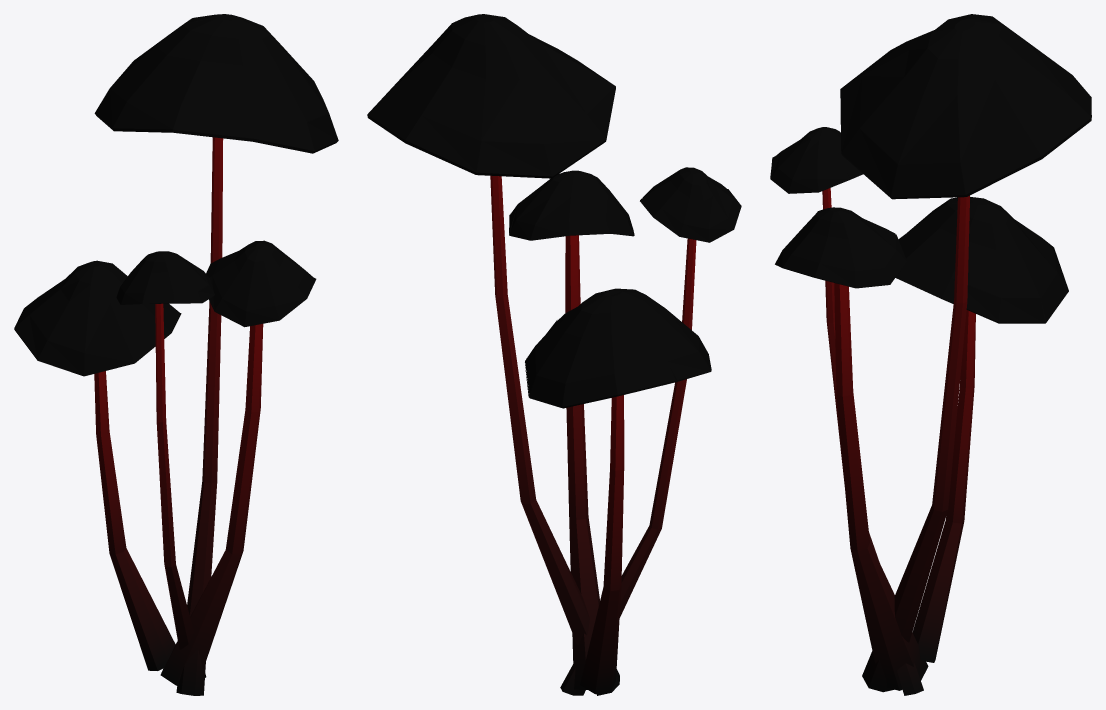
Rendered from FungiUmbona05.fbx.
The picture shows the model from 3 angles, left to right: view 1: azimuth 30°, elevation 25°; view 2: azimuth 150°, elevation 25°; view 3: azimuth 270°, elevation 25°; orthographic projection. The views are drawn at different scales.
Parts seen in each view (by area): view 1: FungiUmbona05; view 2: FungiUmbona05; view 3: FungiUmbona05.
Boxes of the visible parts, left/top/right/bottom form: FungiUmbona05: left=14, top=14, right=338, bottom=695; FungiUmbona05: left=367, top=14, right=741, bottom=695; FungiUmbona05: left=770, top=14, right=1091, bottom=695.
Size of the model in its own units: 21.31 by 43.56 by 18.
